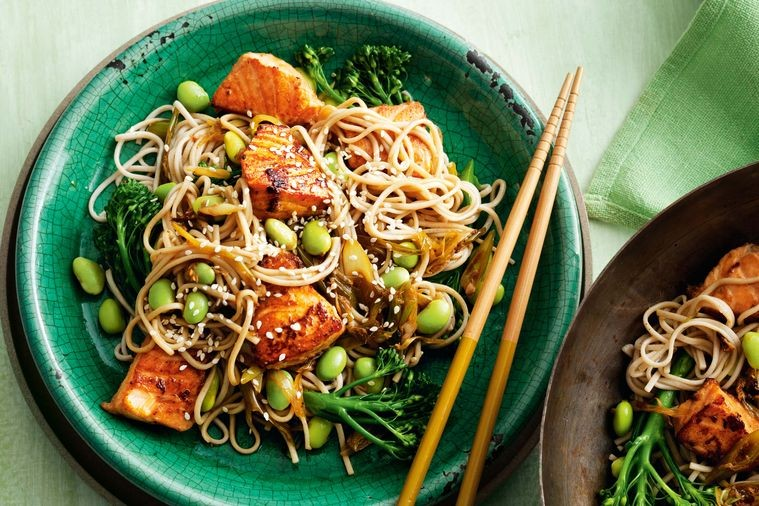Soba: (92, 93, 496, 445), (638, 299, 748, 395)
